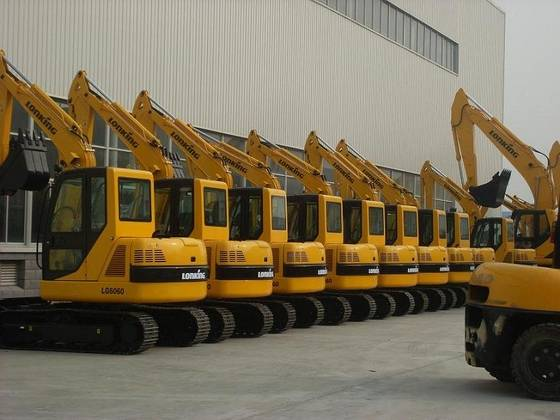backhoe: (1, 69, 215, 348)
